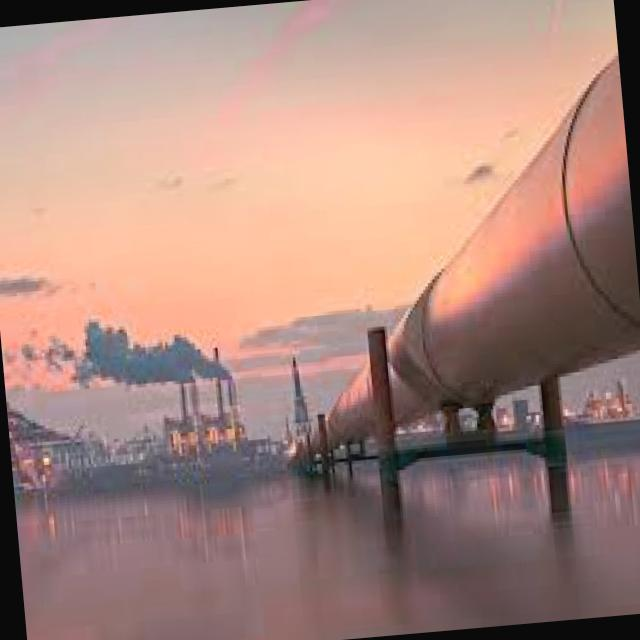gas: (390, 54, 640, 421), (330, 370, 372, 443)
